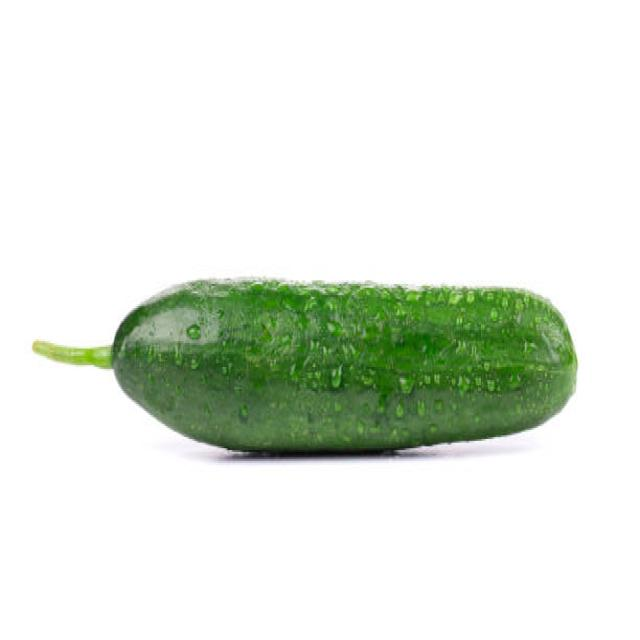cucumber: (112, 276, 578, 455)
